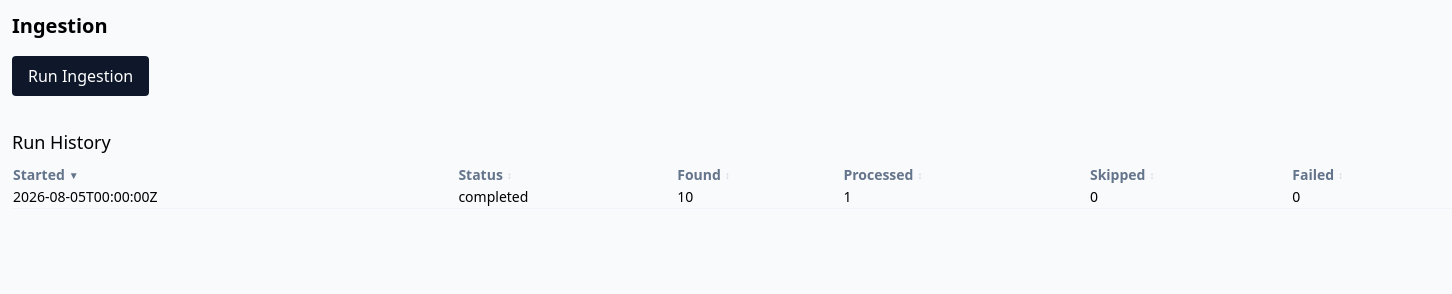
it: IngestionPage probable-duplicate files (Epic 14) › shows 'Probable duplicate of <statement>' as a link to the stored comparison
Click the row with test id "run-history-row-run-1" at (732, 197), box [12,186,1451,208]
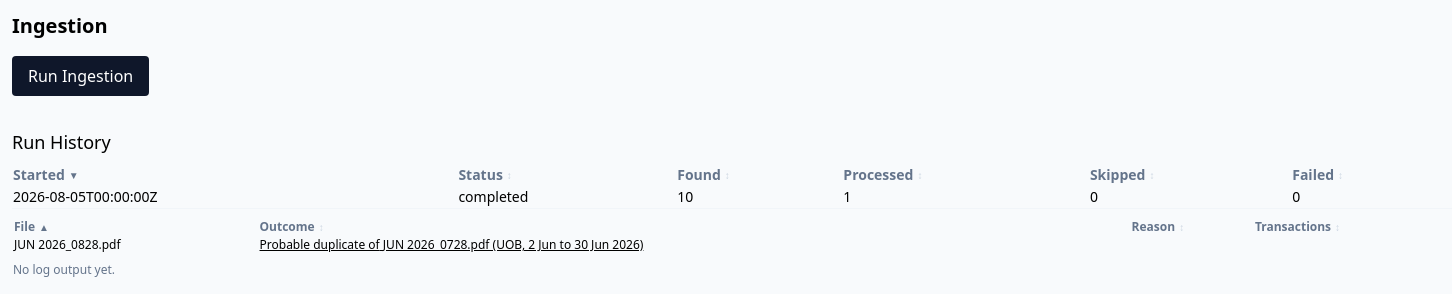
Result: the link with test id "run-file-duplicate-link-file-1" reads "Probable duplicate of JUN 2026_0728.pdf (UOB, 2 Jun to 30 Jun 2026)" at [260,236,643,253]
